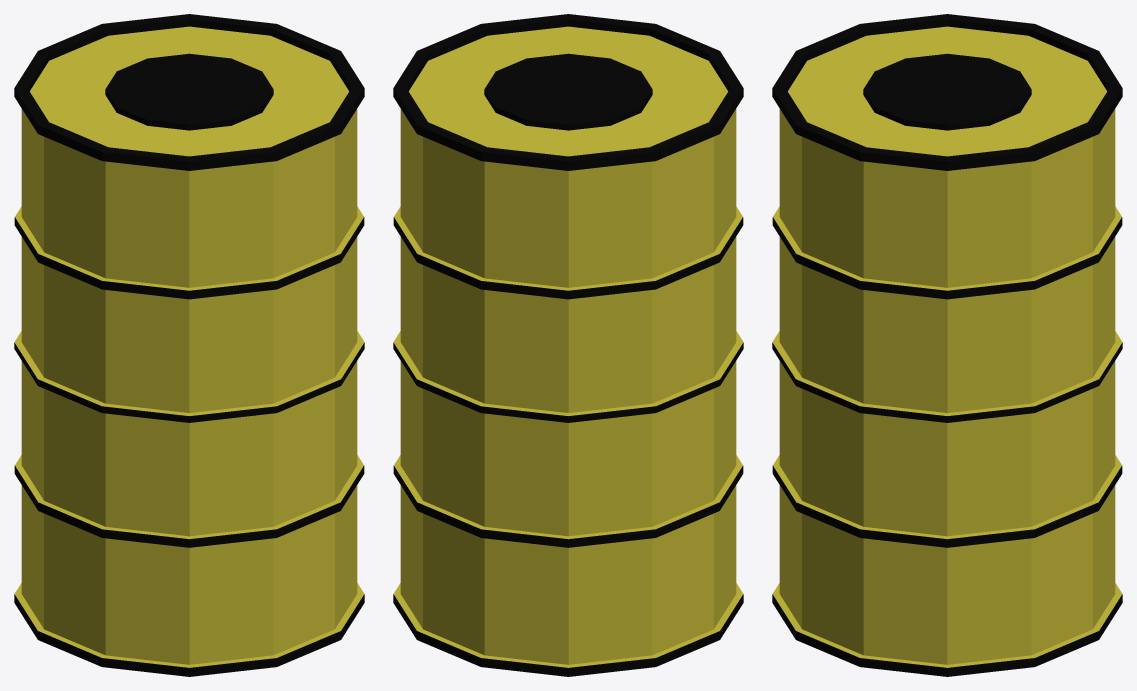
Rendered from BarrelLowPoly.fbx.
The picture shows the model from 3 angles, left to right: view 1: azimuth 30°, elevation 25°; view 2: azimuth 150°, elevation 25°; view 3: azimuth 270°, elevation 25°; orthographic projection.
Visible parts, largest first — view 1: Cylinder; view 2: Cylinder; view 3: Cylinder.
Part boxes in pixels (x1=…): Cylinder: x1=14, y1=14, x2=364, y2=676; Cylinder: x1=393, y1=14, x2=743, y2=676; Cylinder: x1=772, y1=14, x2=1122, y2=676.
Size of the model in its own units: 209 by 339 by 209.
Materials: 1 (1 with a texture image).
